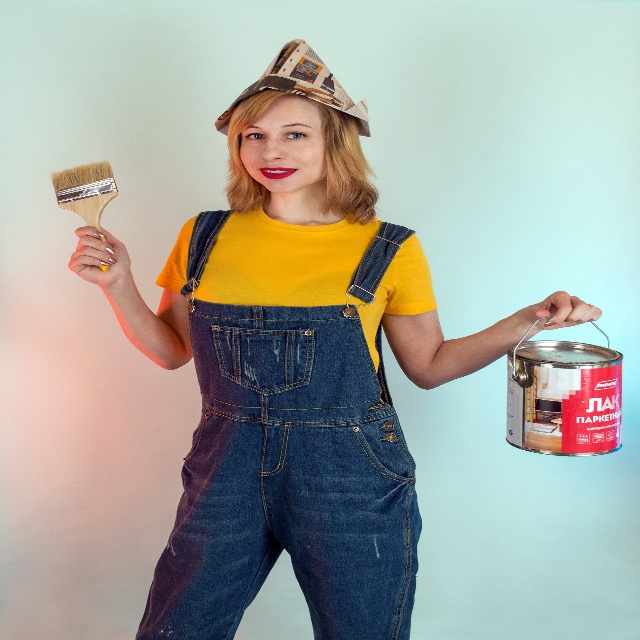Sin_guantes: (65, 222, 133, 289), (525, 286, 606, 332)
